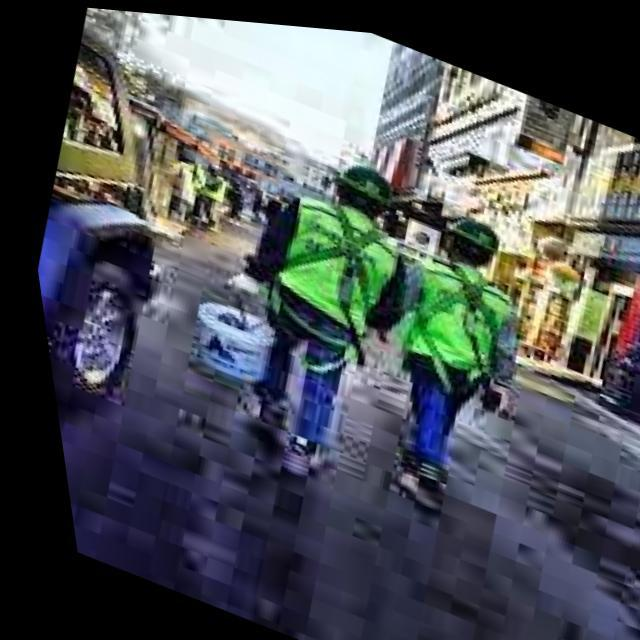belt: (217, 166, 414, 388), (379, 238, 525, 414)
